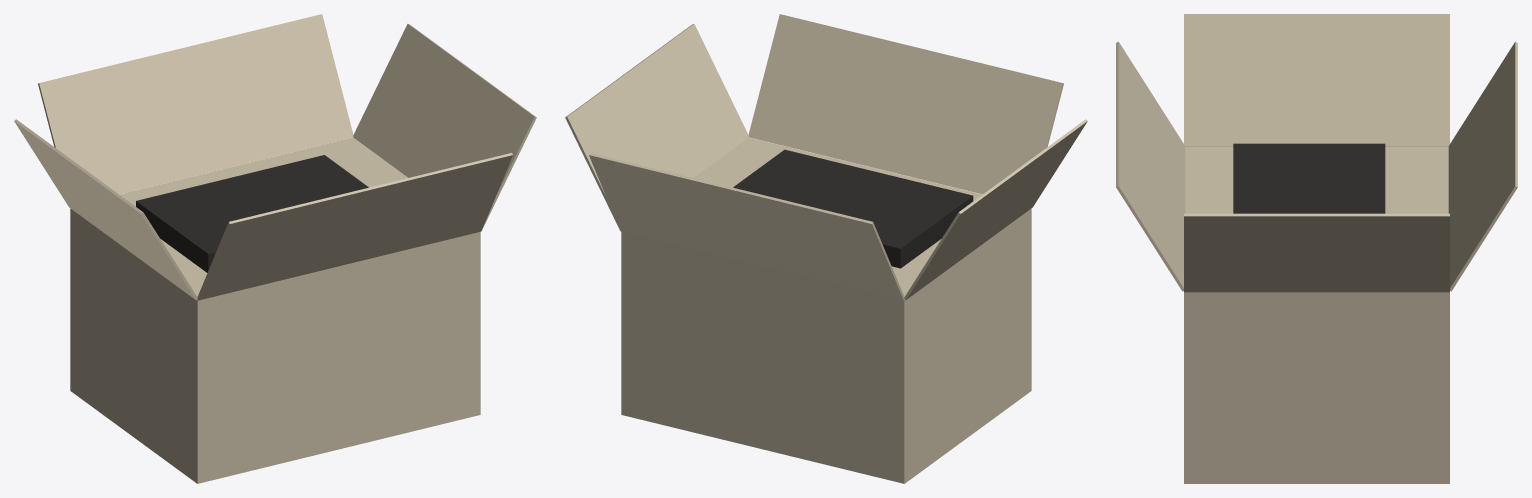
The model's file is cardboard-box-open.glb.
The picture shows the model from 3 angles, left to right: view 1: azimuth 30°, elevation 25°; view 2: azimuth 150°, elevation 25°; view 3: azimuth 270°, elevation 25°; orthographic projection. The views are drawn at different scales.
Parts seen in each view (by area): view 1: paper, plastic-dark; view 2: paper, plastic-dark; view 3: paper, plastic-dark.
Boxes of the visible parts, x1,y1,x2,y2 form: paper: (14,14,536,483); plastic-dark: (136,155,368,272); paper: (565,14,1087,483); plastic-dark: (733,149,973,268); paper: (1116,14,1517,483); plastic-dark: (1233,143,1385,213).
Size of the model in its own units: 0.629 by 0.4328 by 0.529.
